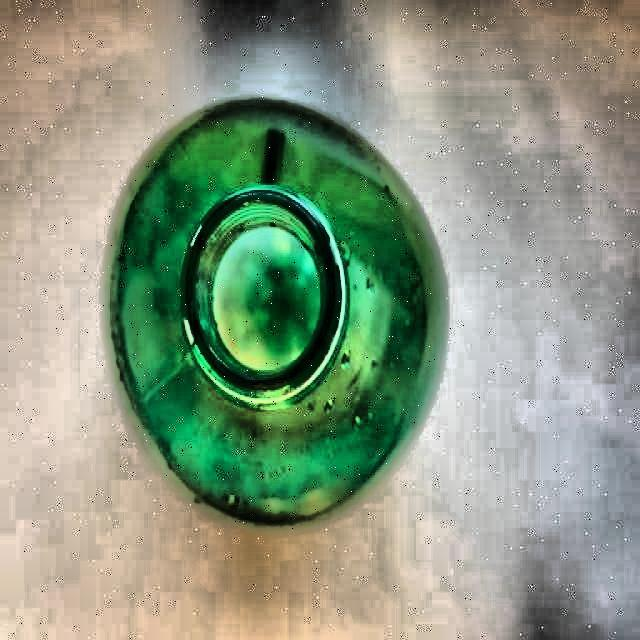plastic: (101, 98, 449, 528)
